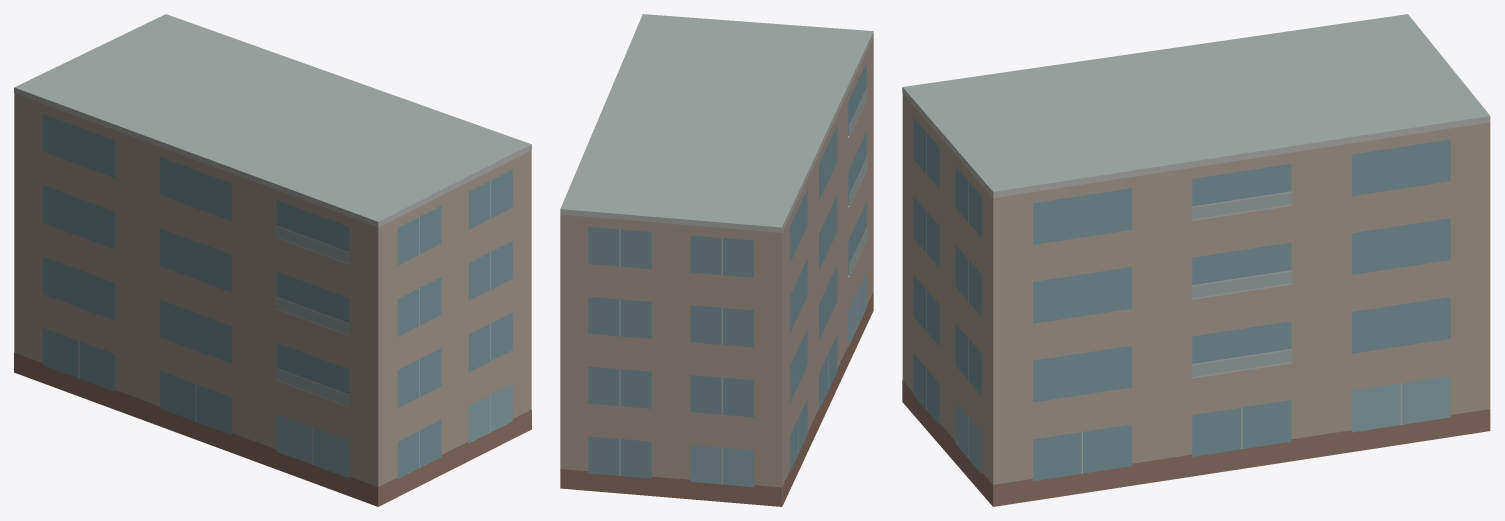
The model's file is survey-upis-32749760.glb.
The picture shows the model from 3 angles, left to right: view 1: azimuth 30°, elevation 25°; view 2: azimuth 150°, elevation 25°; view 3: azimuth 270°, elevation 25°; orthographic projection. The views are drawn at different scales.
Parts seen in each view (by area): view 1: survey-upis-32749760.tmp; view 2: survey-upis-32749760.tmp; view 3: survey-upis-32749760.tmp.
Part boxes in pixels (<box>): survey-upis-32749760.tmp: <box>14,14,531,506</box>; survey-upis-32749760.tmp: <box>560,14,873,506</box>; survey-upis-32749760.tmp: <box>902,14,1490,506</box>.
Size of the model in its own units: 14.79 by 12.2 by 20.65.
